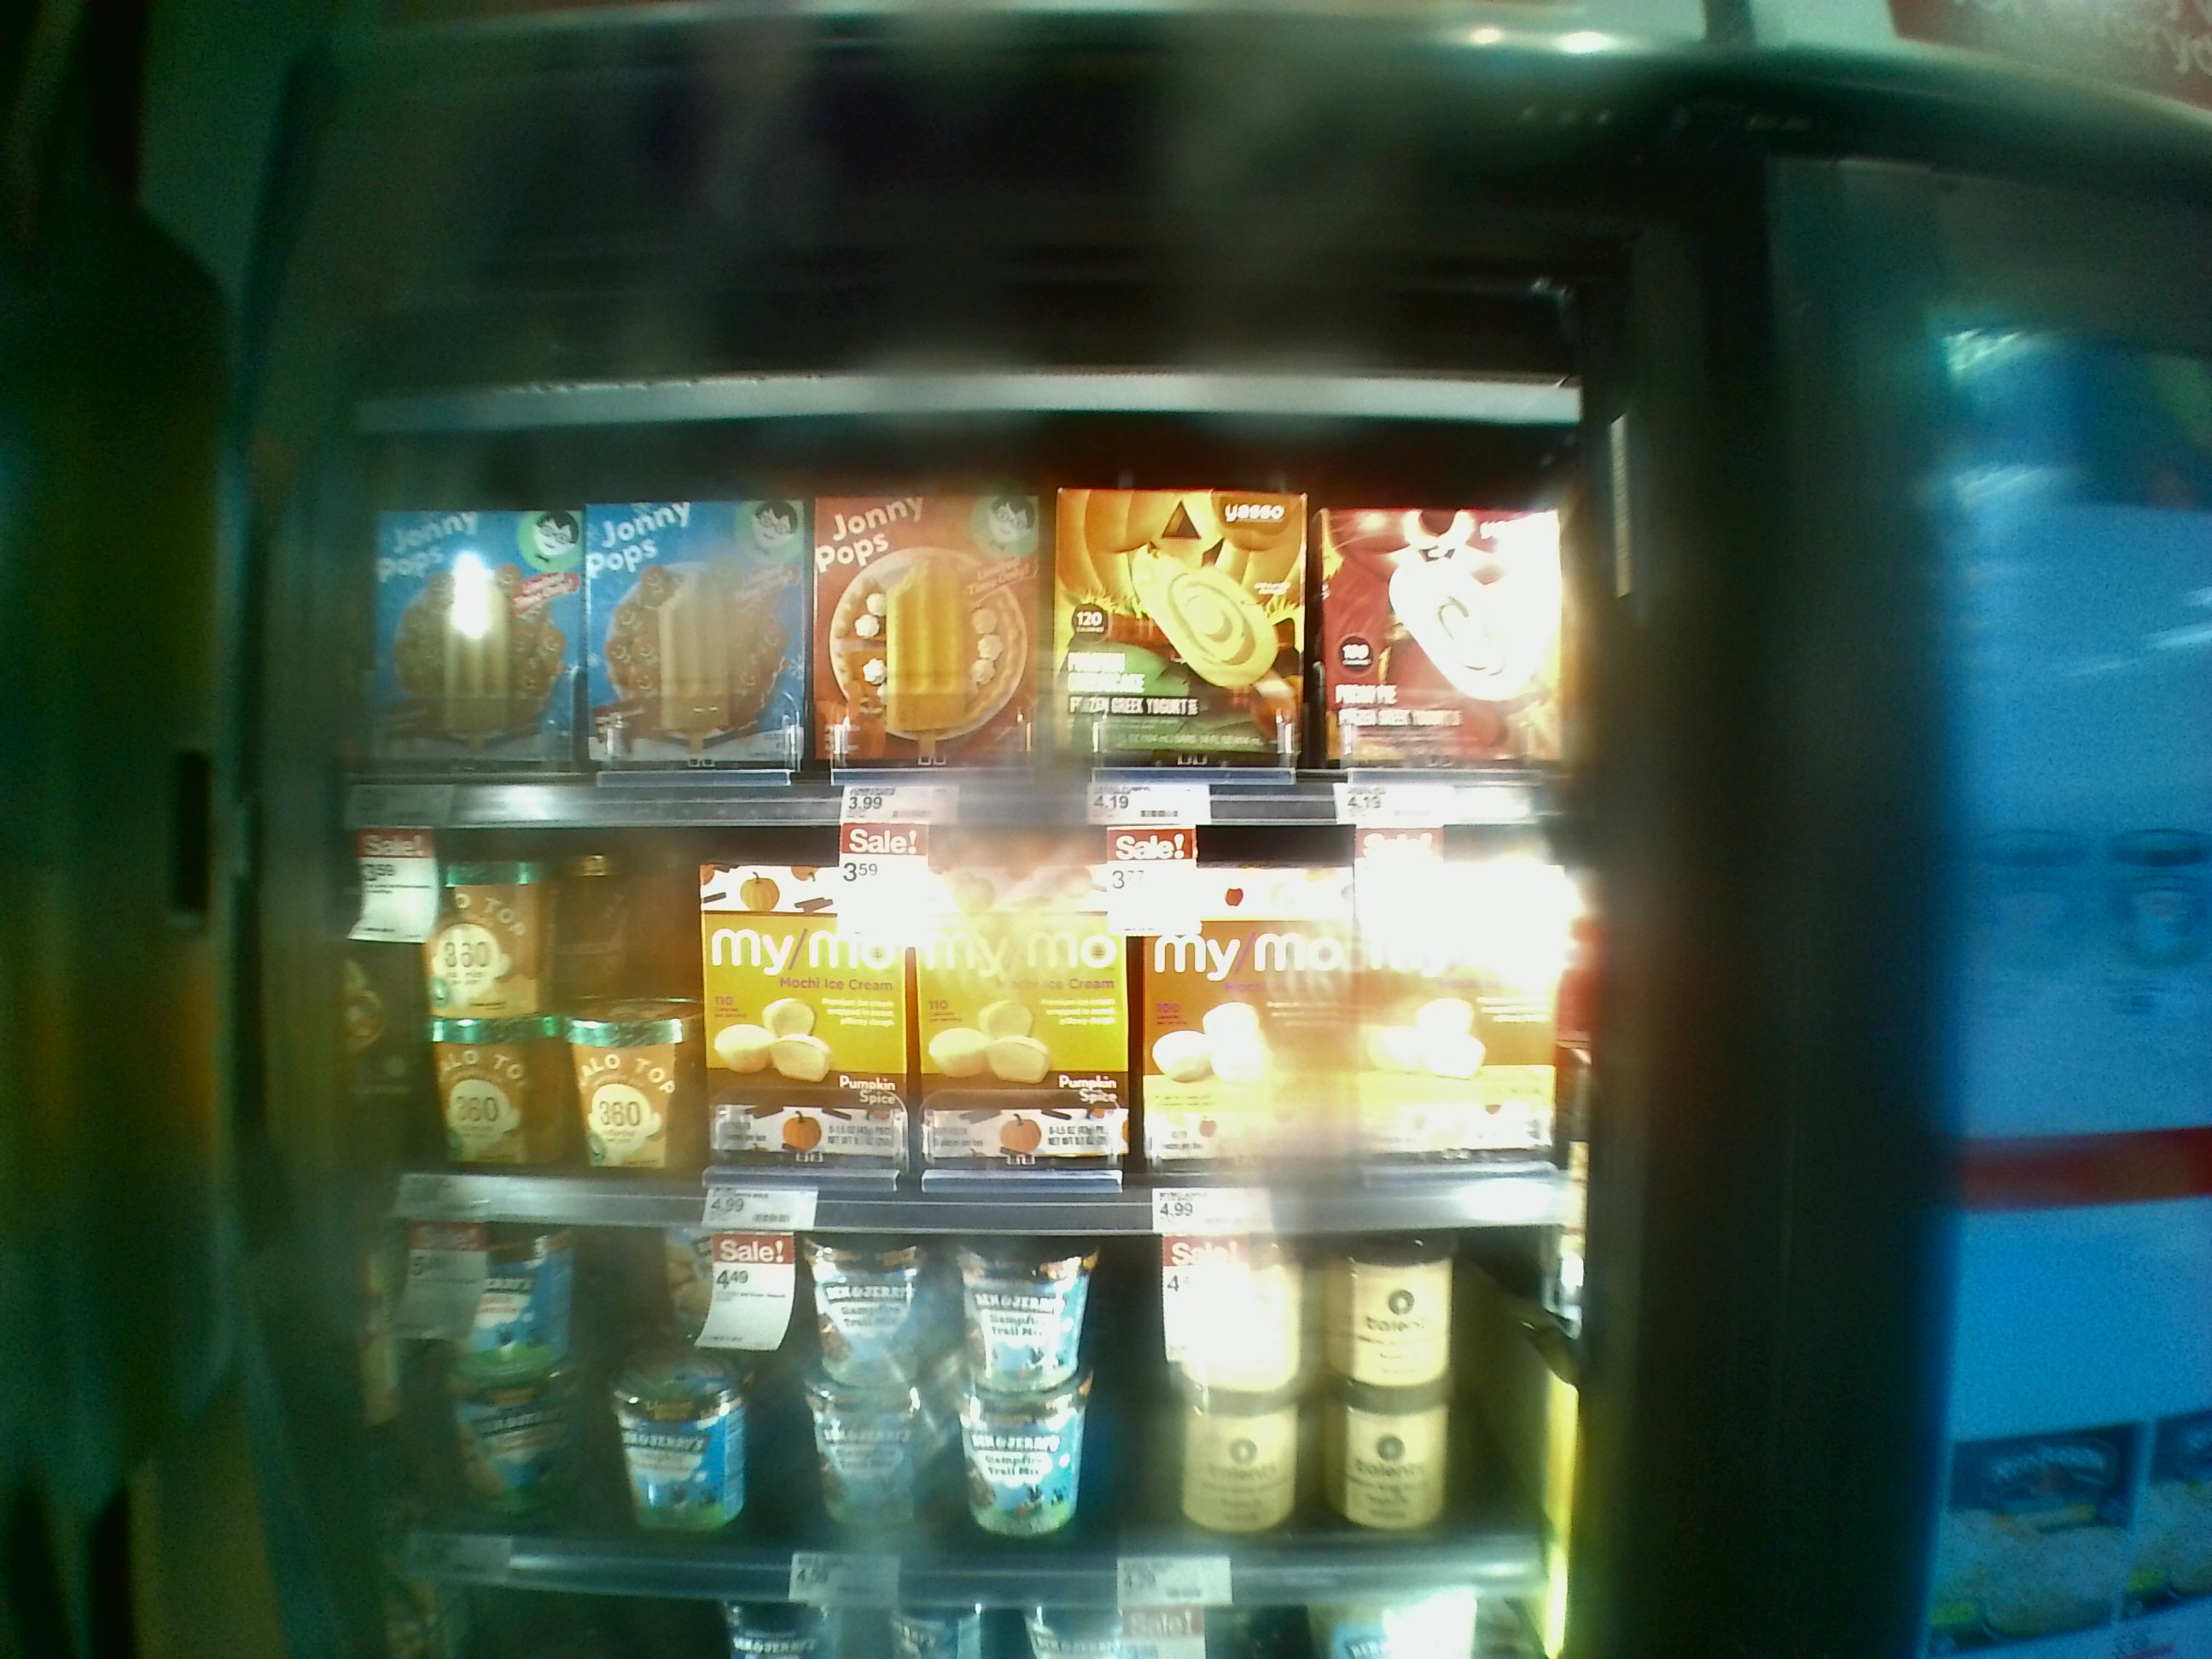shelf: (275, 779, 1599, 1218), (312, 1171, 1569, 1617), (314, 427, 1594, 821)
